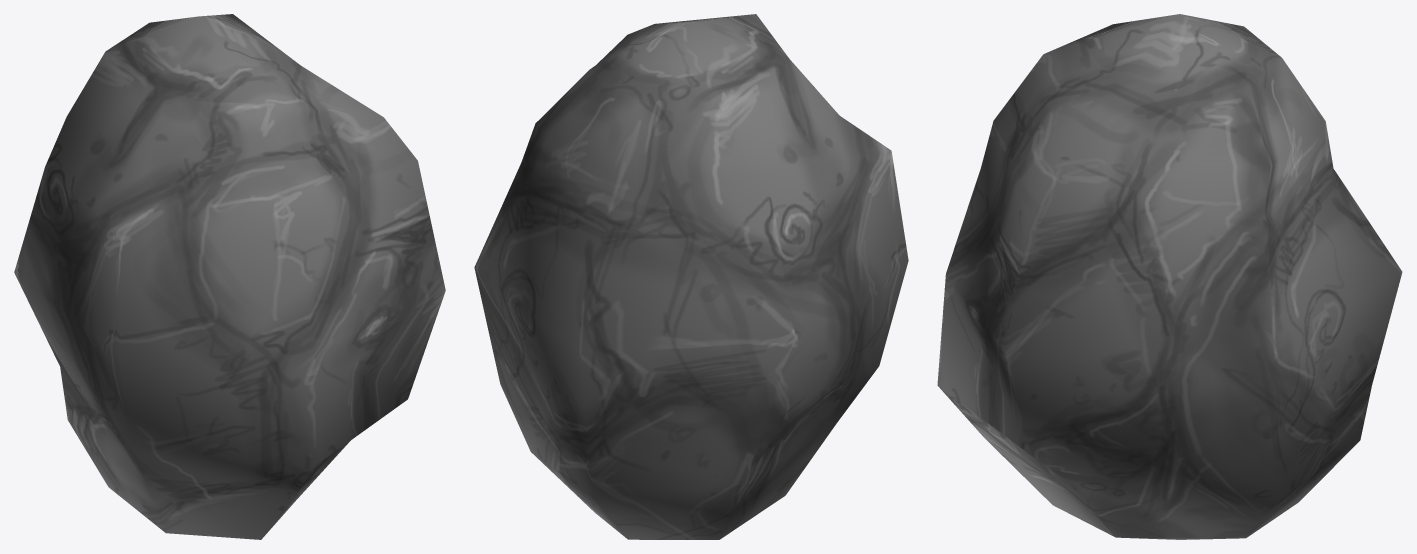
The model's file is Rock.fbx.
3 views of the same model, side by side, from view 1: azimuth 30°, elevation 25°; view 2: azimuth 150°, elevation 25°; view 3: azimuth 270°, elevation 25° (orthographic). The views are drawn at different scales.
Parts seen in each view (by area): view 1: Cylinder; view 2: Cylinder; view 3: Cylinder.
Part boxes in pixels (box(x1,y1,x2,y2)): Cylinder: box(14, 14, 445, 539); Cylinder: box(474, 14, 908, 539); Cylinder: box(937, 14, 1402, 539).
Size of the model in its own units: 0.8443 by 1.3 by 1.04.
